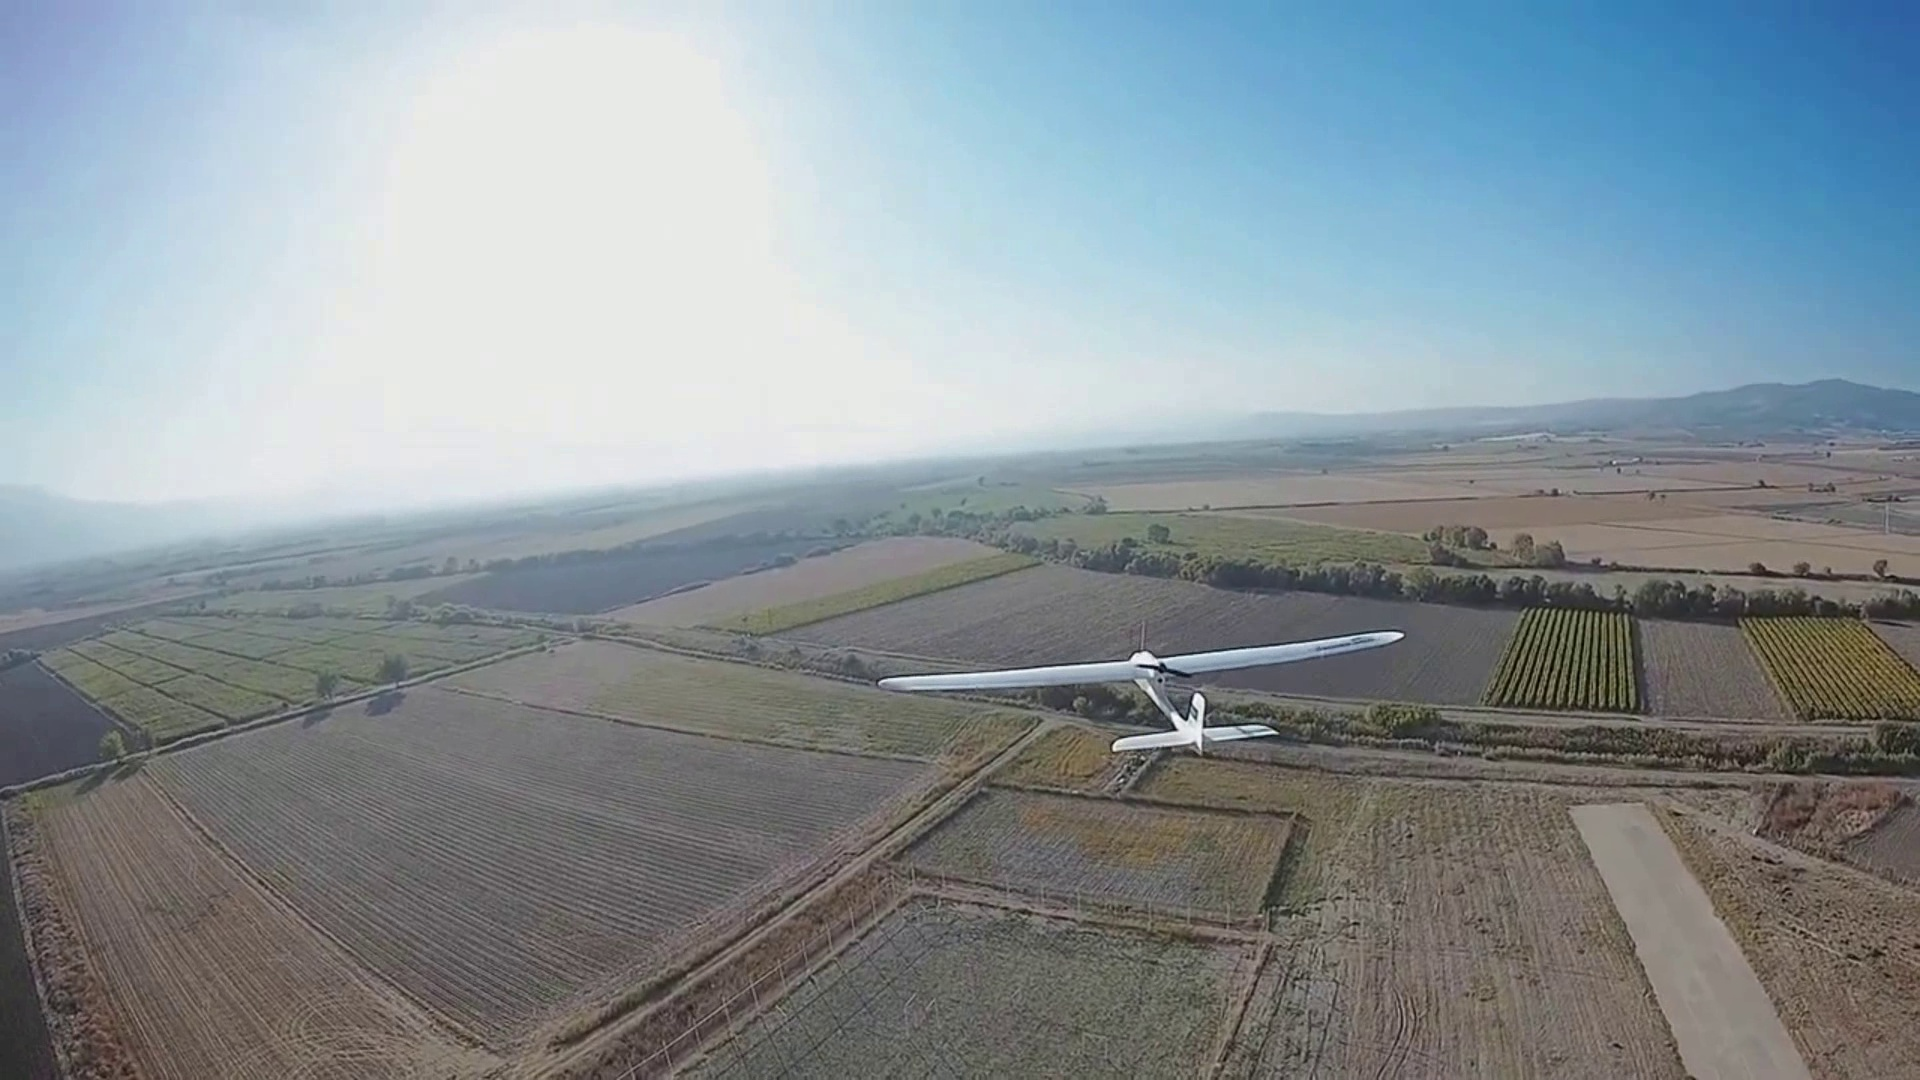airplane: (866, 629, 1408, 769)
